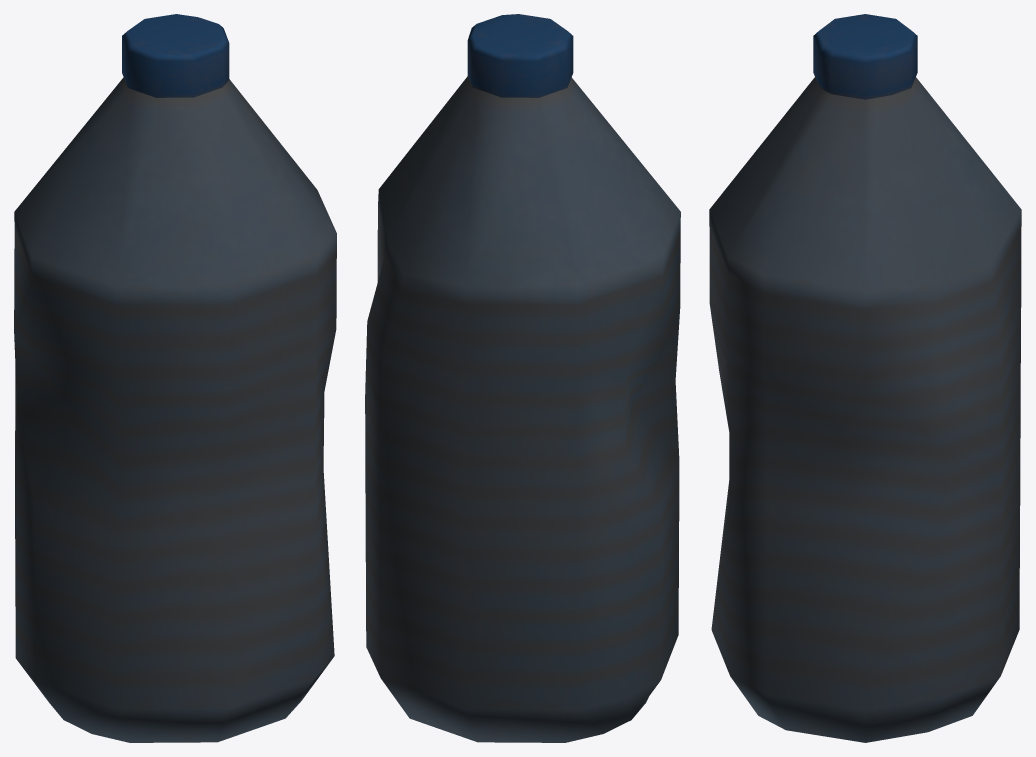
The model's file is SM_Water_Bottle_B.fbx.
The picture shows the model from 3 angles, left to right: view 1: azimuth 30°, elevation 25°; view 2: azimuth 150°, elevation 25°; view 3: azimuth 270°, elevation 25°; orthographic projection.
Visible parts, largest first — view 1: SM_Water_Bottle_B; view 2: SM_Water_Bottle_B; view 3: SM_Water_Bottle_B.
Part boxes in pixels (x1,y1,x2,y2): SM_Water_Bottle_B: [14, 14, 336, 742]; SM_Water_Bottle_B: [365, 14, 680, 742]; SM_Water_Bottle_B: [709, 14, 1021, 742].
Size of the model in its own units: 14.66 by 32.25 by 13.96.
